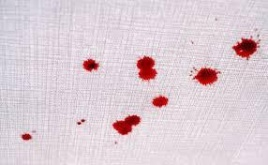blood: (112, 113, 141, 135), (233, 38, 260, 59), (137, 55, 156, 82), (195, 67, 220, 85), (82, 59, 99, 72), (151, 97, 169, 108), (21, 132, 33, 141), (76, 118, 86, 126)
